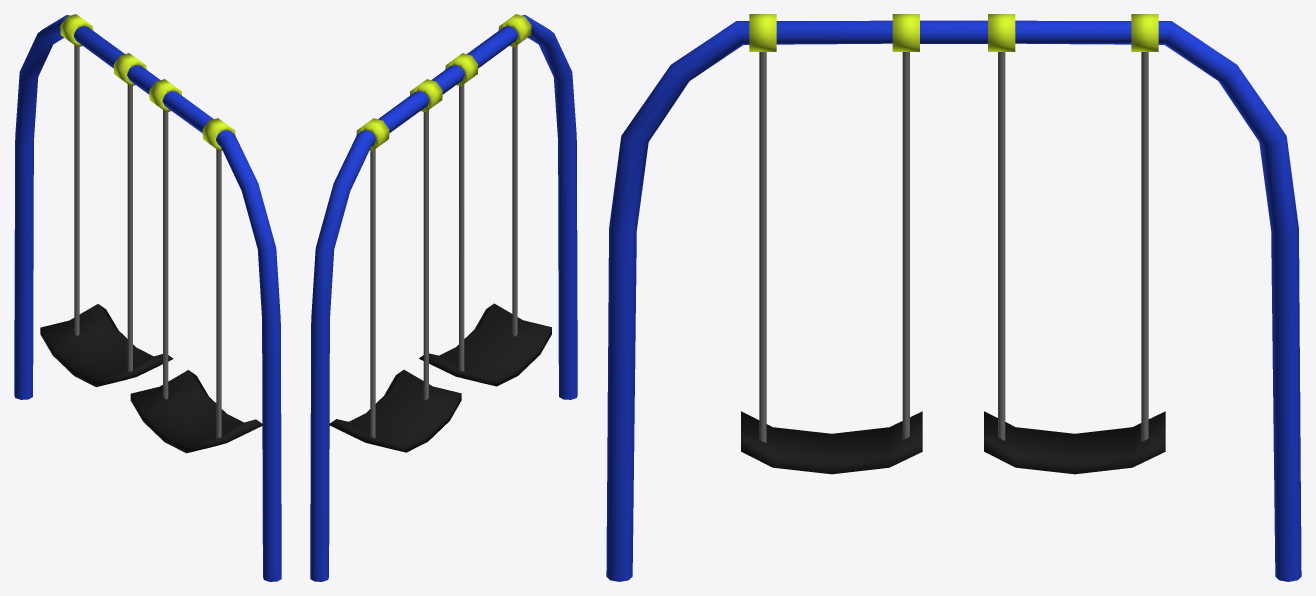
File: swing.fbx
3 views of the same model, side by side, from view 1: azimuth 30°, elevation 25°; view 2: azimuth 150°, elevation 25°; view 3: azimuth 270°, elevation 25° (orthographic). The views are drawn at different scales.
Visible parts, largest first — view 1: swing:Mesh; view 2: swing:Mesh; view 3: swing:Mesh.
Part boxes in pixels (bbox=[...]): swing:Mesh: bbox=[14, 14, 281, 581]; swing:Mesh: bbox=[310, 14, 577, 581]; swing:Mesh: bbox=[606, 14, 1301, 581].
Bounding box in the file's own units: 2.14 × 12.92 × 14.55.
1 material, 1 textured.
